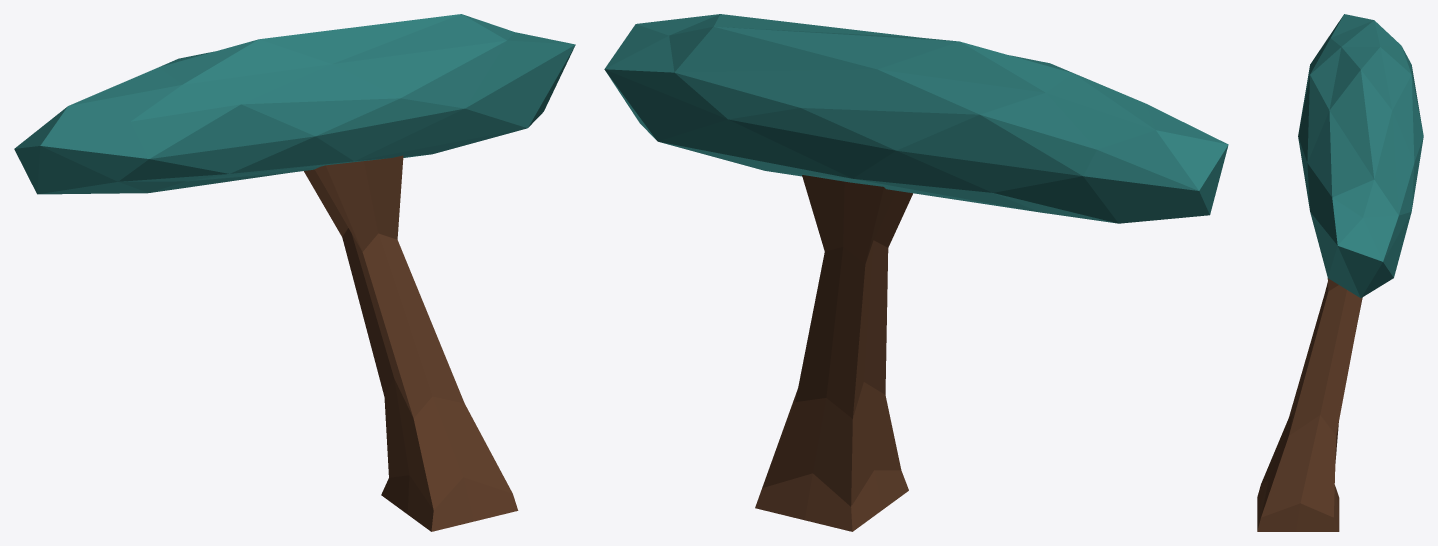
Rendered from Tree_36_Blue.fbx.
3 views of the same model, side by side, from view 1: azimuth 30°, elevation 25°; view 2: azimuth 150°, elevation 25°; view 3: azimuth 270°, elevation 25° (orthographic). The views are drawn at different scales.
Parts seen in each view (by area): view 1: Tree_36_Blue_Part_1, Tree_36_Blue_Part_2; view 2: Tree_36_Blue_Part_1, Tree_36_Blue_Part_2; view 3: Tree_36_Blue_Part_1, Tree_36_Blue_Part_2.
Boxes of the visible parts, x1,y1,x2,y2 form: Tree_36_Blue_Part_1: (14,14,575,194); Tree_36_Blue_Part_2: (304,155,518,531); Tree_36_Blue_Part_1: (604,14,1228,223); Tree_36_Blue_Part_2: (755,175,912,531); Tree_36_Blue_Part_1: (1298,14,1423,297); Tree_36_Blue_Part_2: (1257,278,1362,531).
Bounding box in the file's own units: 795 × 675 × 265.
